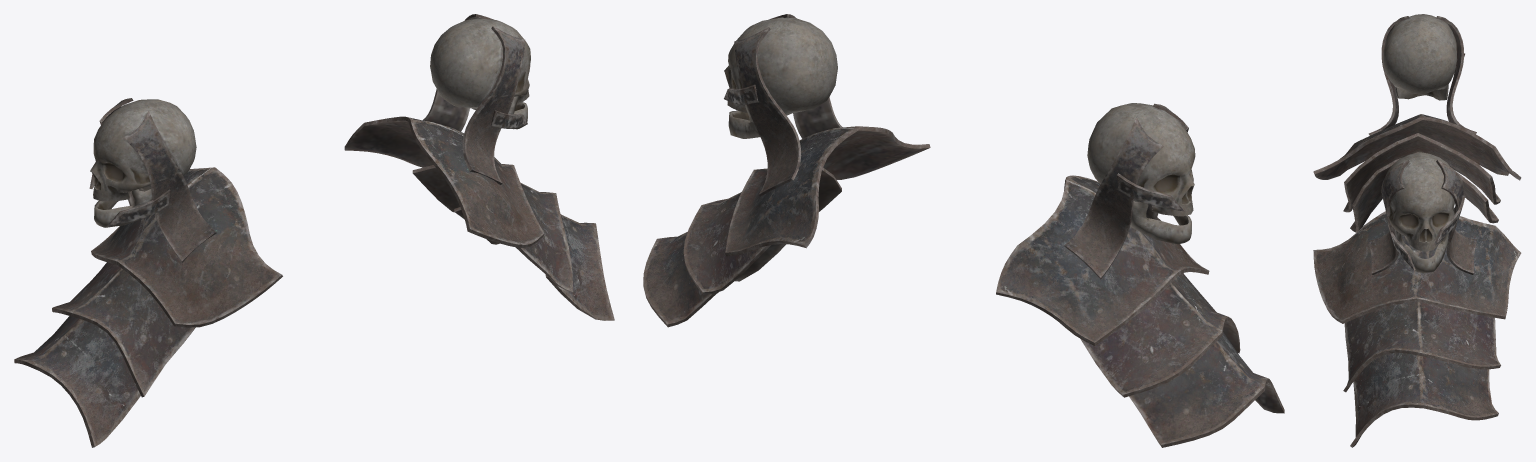
Rendered from sk_dg_uruk_pauldron_elite_c.fbx.
The picture shows the model from 3 angles, left to right: view 1: azimuth 30°, elevation 25°; view 2: azimuth 150°, elevation 25°; view 3: azimuth 270°, elevation 25°; orthographic projection. The views are drawn at different scales.
Parts seen in each view (by area): view 1: sk_dg_uruk_pauldron_elite_c; view 2: sk_dg_uruk_pauldron_elite_c; view 3: sk_dg_uruk_pauldron_elite_c.
Boxes of the visible parts, bbox=[...] form: sk_dg_uruk_pauldron_elite_c: bbox=[14, 14, 614, 447]; sk_dg_uruk_pauldron_elite_c: bbox=[643, 14, 1284, 447]; sk_dg_uruk_pauldron_elite_c: bbox=[1313, 14, 1521, 447].
Bounding box in the file's own units: 0.8427 × 0.3109 × 0.4133.
1 material, 1 textured.
